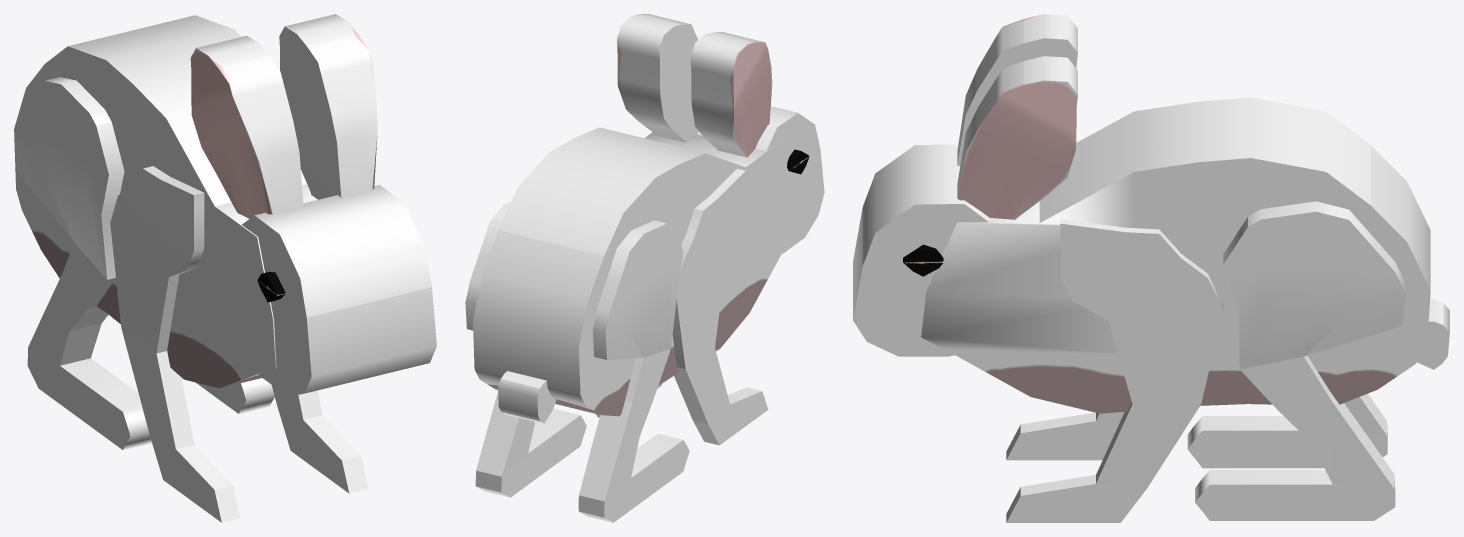
Rendered from rabbit_4.fbx.
3 renders of one model, left to right at view 1: azimuth 30°, elevation 25°; view 2: azimuth 150°, elevation 25°; view 3: azimuth 270°, elevation 25°, orthographic. The views are drawn at different scales.
Visible parts, largest first — view 1: rabbit1; view 2: rabbit1; view 3: rabbit1.
Part boxes in pixels (x1,y1,x2,y2): rabbit1: [14, 14, 436, 522]; rabbit1: [465, 14, 824, 522]; rabbit1: [853, 14, 1449, 522].
Bounding box in the file's own units: 3.96 × 10.43 × 12.76.
